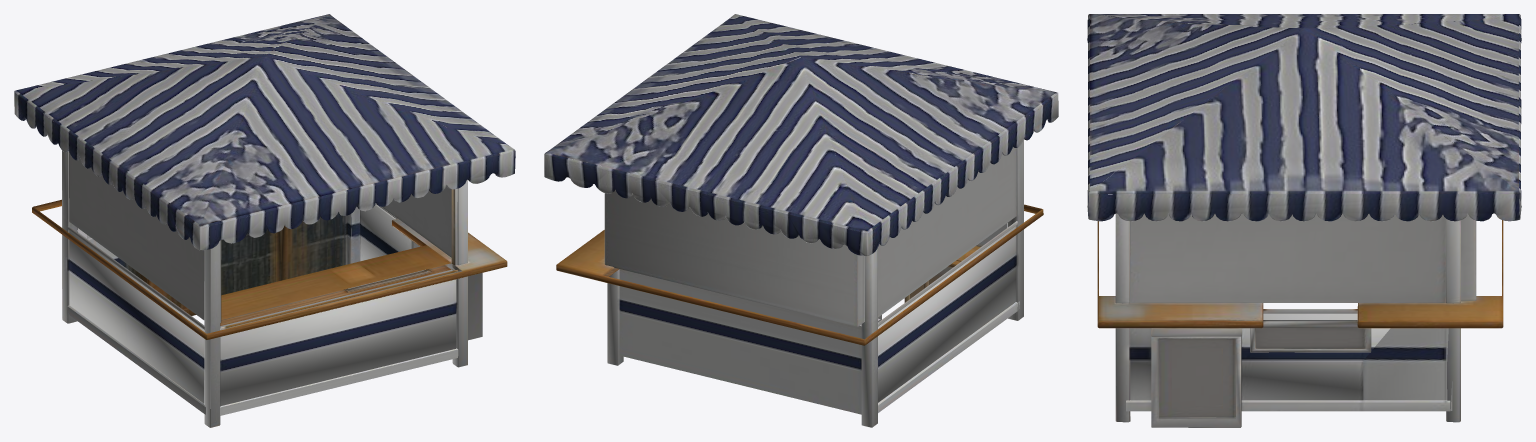
The model's file is pool-bar.glb.
3 views of the same model, side by side, from view 1: azimuth 30°, elevation 25°; view 2: azimuth 150°, elevation 25°; view 3: azimuth 270°, elevation 25° (orthographic). The views are drawn at different scales.
Visible parts, largest first — view 1: tripo_node_759cfe54-6378-450f-9e33-80806db45f5e; view 2: tripo_node_759cfe54-6378-450f-9e33-80806db45f5e; view 3: tripo_node_759cfe54-6378-450f-9e33-80806db45f5e.
Part boxes in pixels (bbox=[...]): tripo_node_759cfe54-6378-450f-9e33-80806db45f5e: bbox=[14, 14, 515, 427]; tripo_node_759cfe54-6378-450f-9e33-80806db45f5e: bbox=[544, 14, 1058, 427]; tripo_node_759cfe54-6378-450f-9e33-80806db45f5e: bbox=[1087, 14, 1521, 427].
Size of the model in its own units: 3.33 by 2.8 by 3.4.
Materials: 1 (1 with a texture image).
